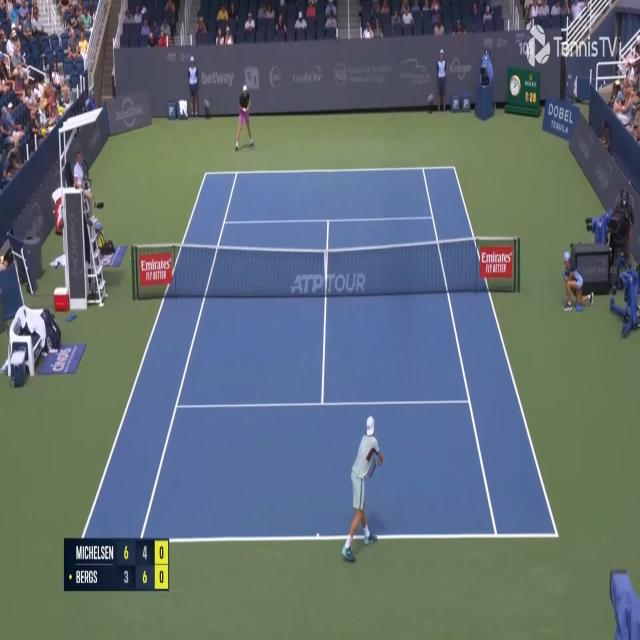tennis-player: (341, 411, 384, 566), (234, 82, 255, 151)
